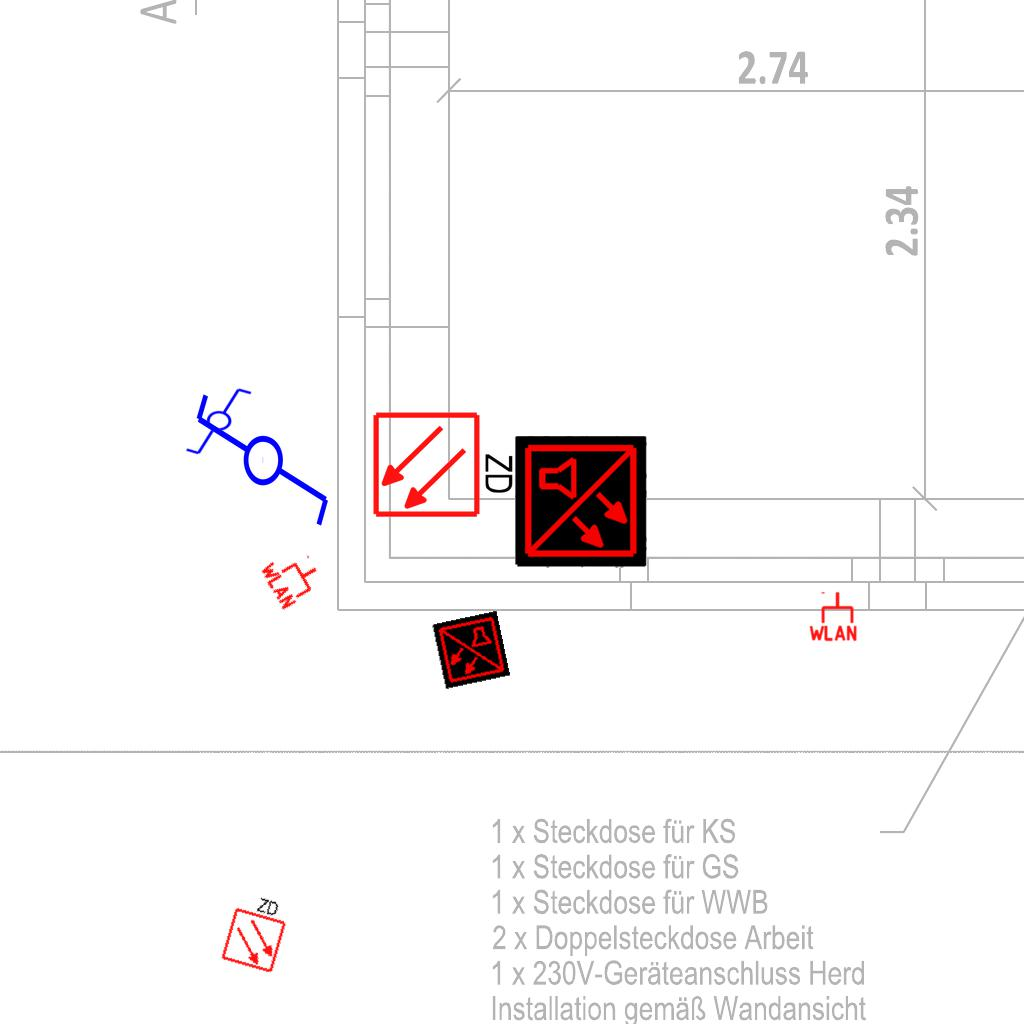OKW_Multisensormelder_(Kombination_optischer_Rauch-Kahlenmonoxid_Waerme-Melder): (515, 436, 647, 568), (431, 610, 511, 690)
WLAN: (257, 541, 329, 613), (807, 590, 859, 642)
Wechselschalter: (189, 390, 333, 547), (184, 386, 262, 458)
ZD_Melder_in_Zwischendecke_mit_Revisionsoeffnung_mind_40_x_40_cm: (371, 406, 520, 520), (217, 887, 294, 975)
